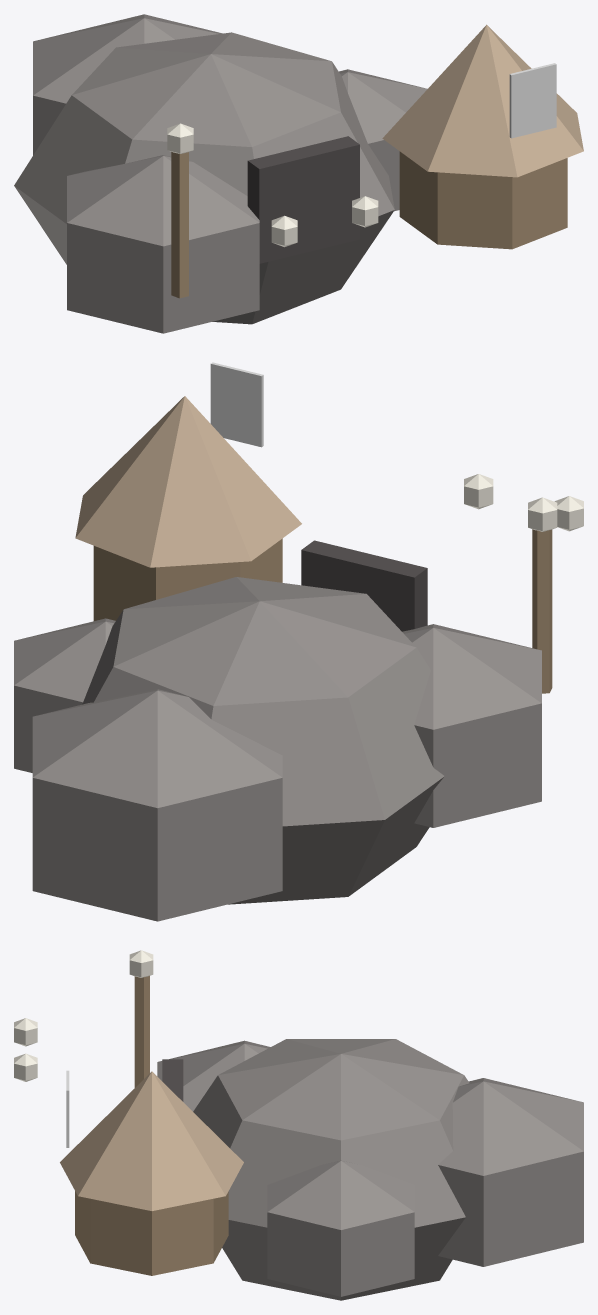
3 views of the same model, one above another, from view 1: azimuth 30°, elevation 25°; view 2: azimuth 150°, elevation 25°; view 3: azimuth 270°, elevation 25° (orthographic). The views are drawn at different scales.
Parts seen in each view (by area): view 1: body; view 2: body; view 3: body.
Part boxes in pixels (x1=…): body: x1=14, y1=14, x2=583, y2=333; body: x1=14, y1=362, x2=583, y2=921; body: x1=14, y1=950, x2=583, y2=1300.
Bounding box in the file's own units: 9.12 × 5.98 × 10.85.
